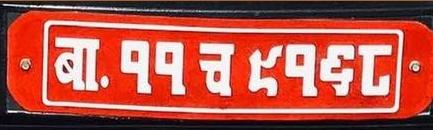1: (154, 40, 196, 97), (283, 41, 321, 101), (119, 38, 153, 96)
6: (319, 41, 358, 99)
8: (357, 40, 396, 101)
9: (242, 43, 285, 99)
ba: (51, 35, 104, 93)
cha: (198, 40, 237, 98)
